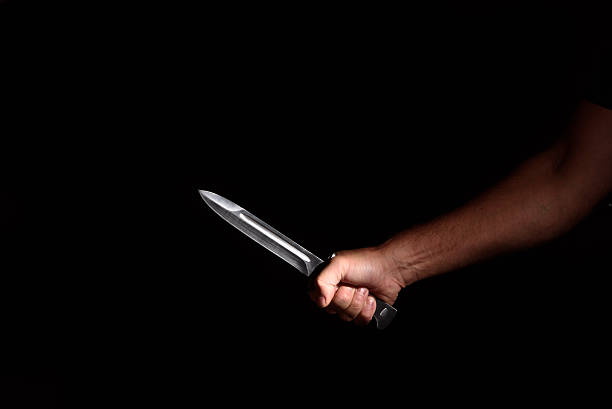knife: (196, 187, 401, 332)
